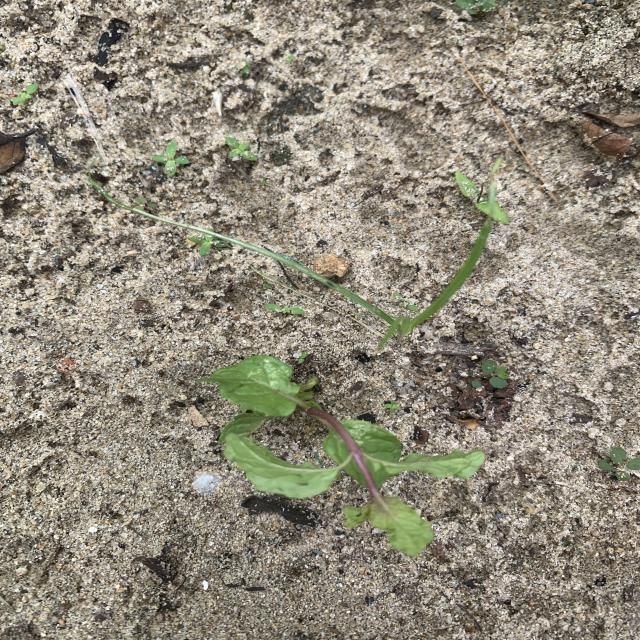crop: (196, 355, 484, 556)
weed: (91, 181, 491, 335), (455, 160, 509, 224), (598, 447, 640, 481), (152, 140, 190, 177), (218, 135, 259, 163), (480, 359, 509, 389), (454, 0, 498, 18), (11, 82, 39, 110), (265, 303, 306, 316), (383, 400, 401, 413), (298, 352, 311, 366), (239, 61, 251, 76), (470, 379, 481, 389), (287, 54, 294, 62)
